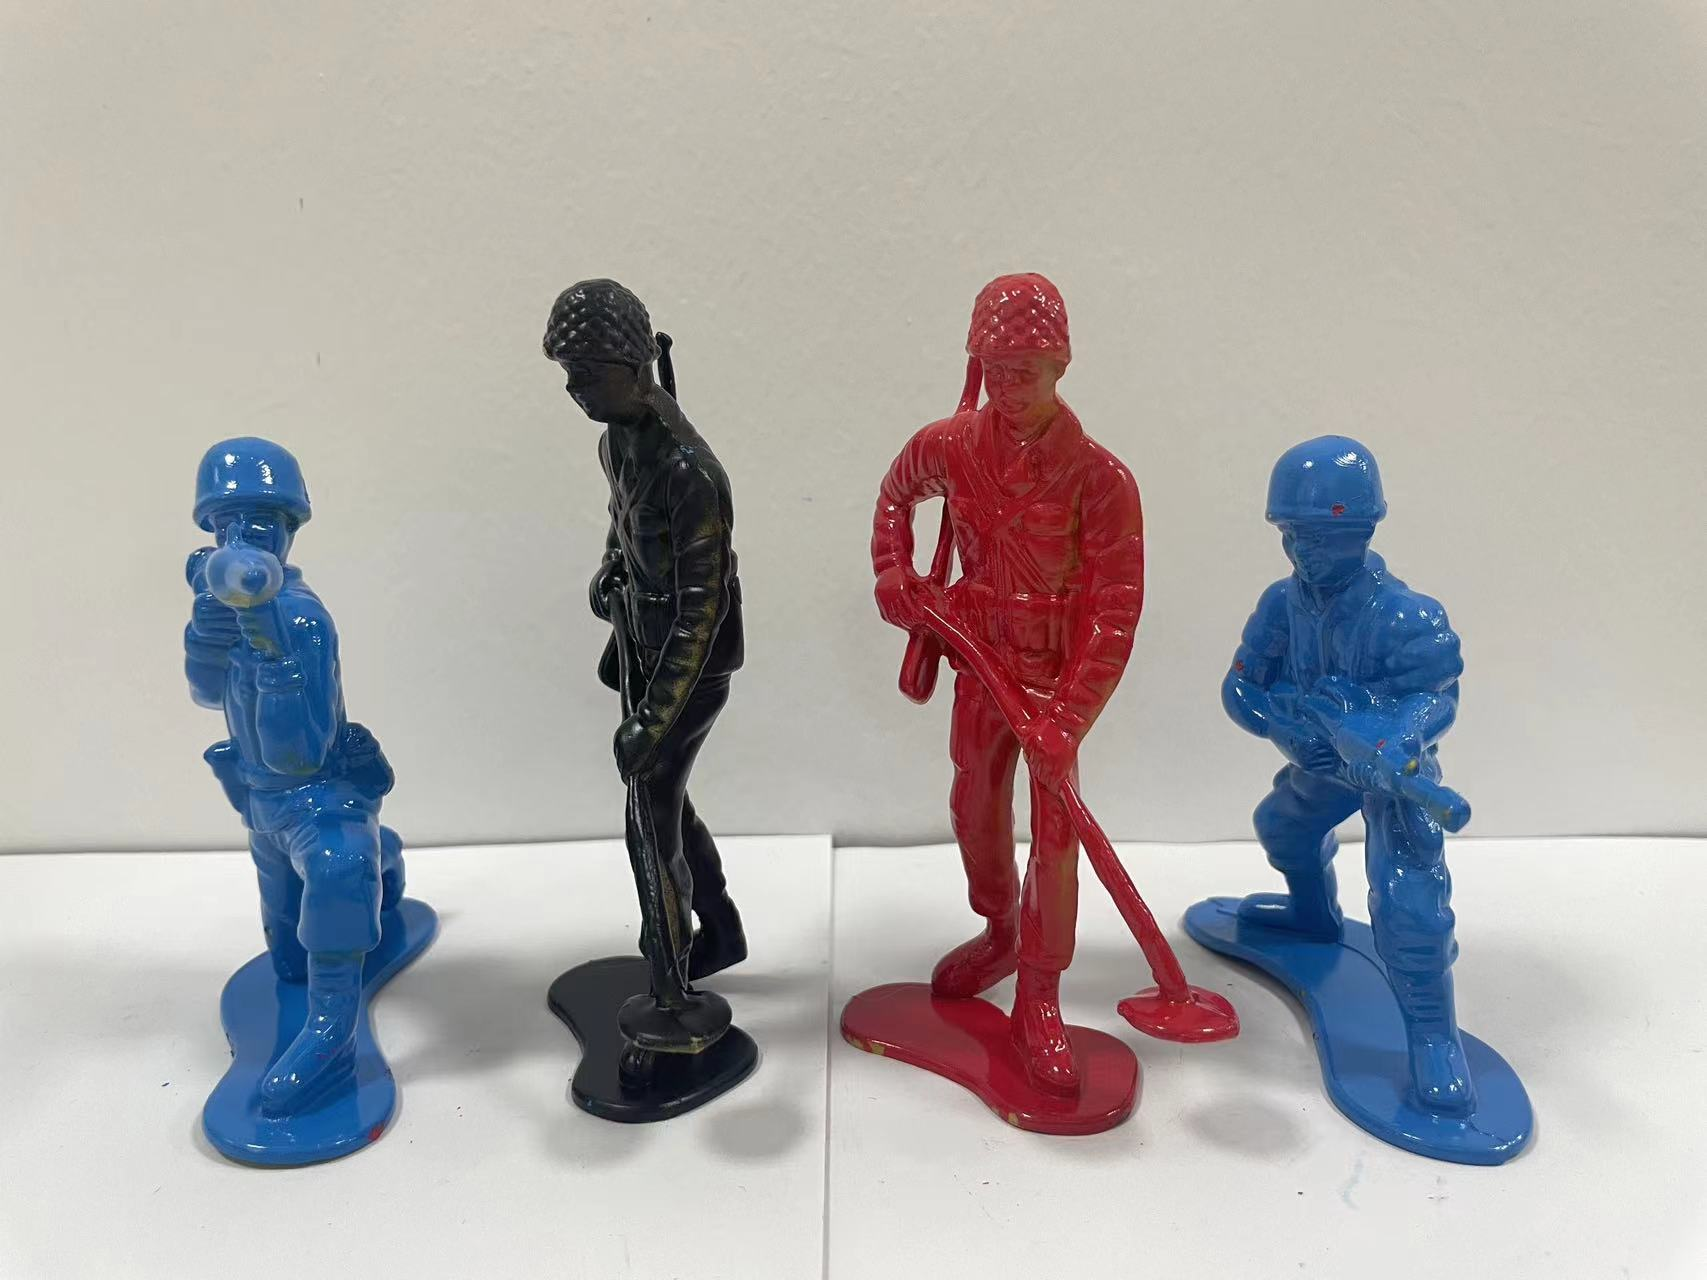black: (501, 259, 820, 1167)
blue: (112, 406, 481, 1191), (1212, 418, 1551, 1206)
red: (849, 268, 1215, 1160)
